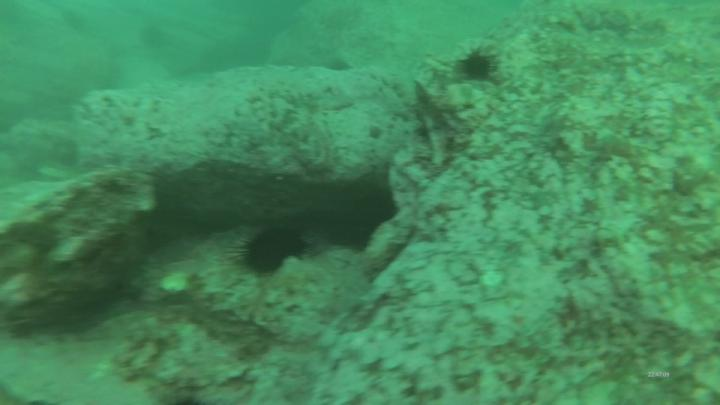echinus: (228, 221, 317, 277), (341, 203, 392, 252), (454, 49, 502, 86), (56, 4, 90, 36), (136, 20, 170, 52), (321, 56, 355, 76)
